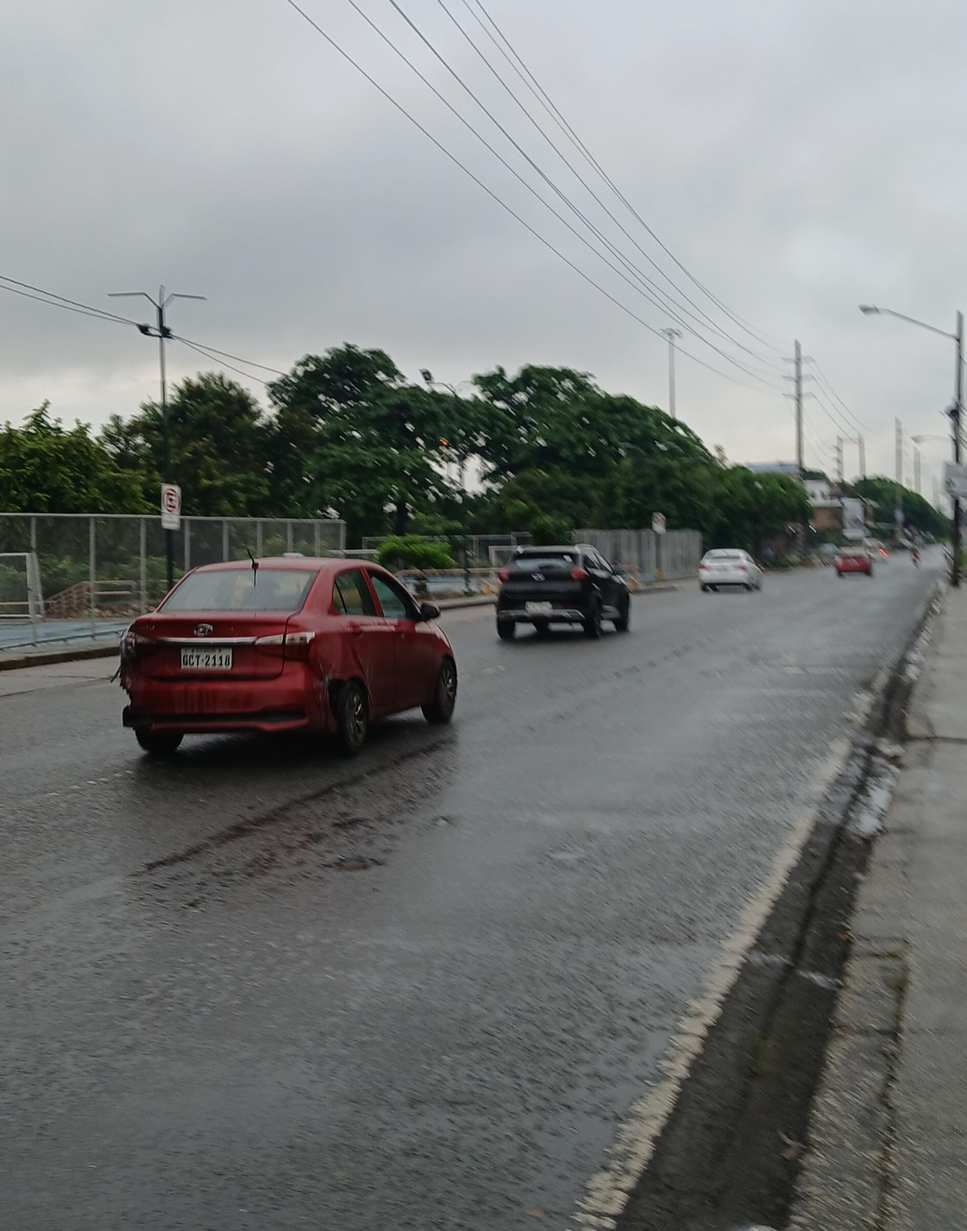license_plate: (180, 647, 232, 669), (522, 601, 553, 613)
